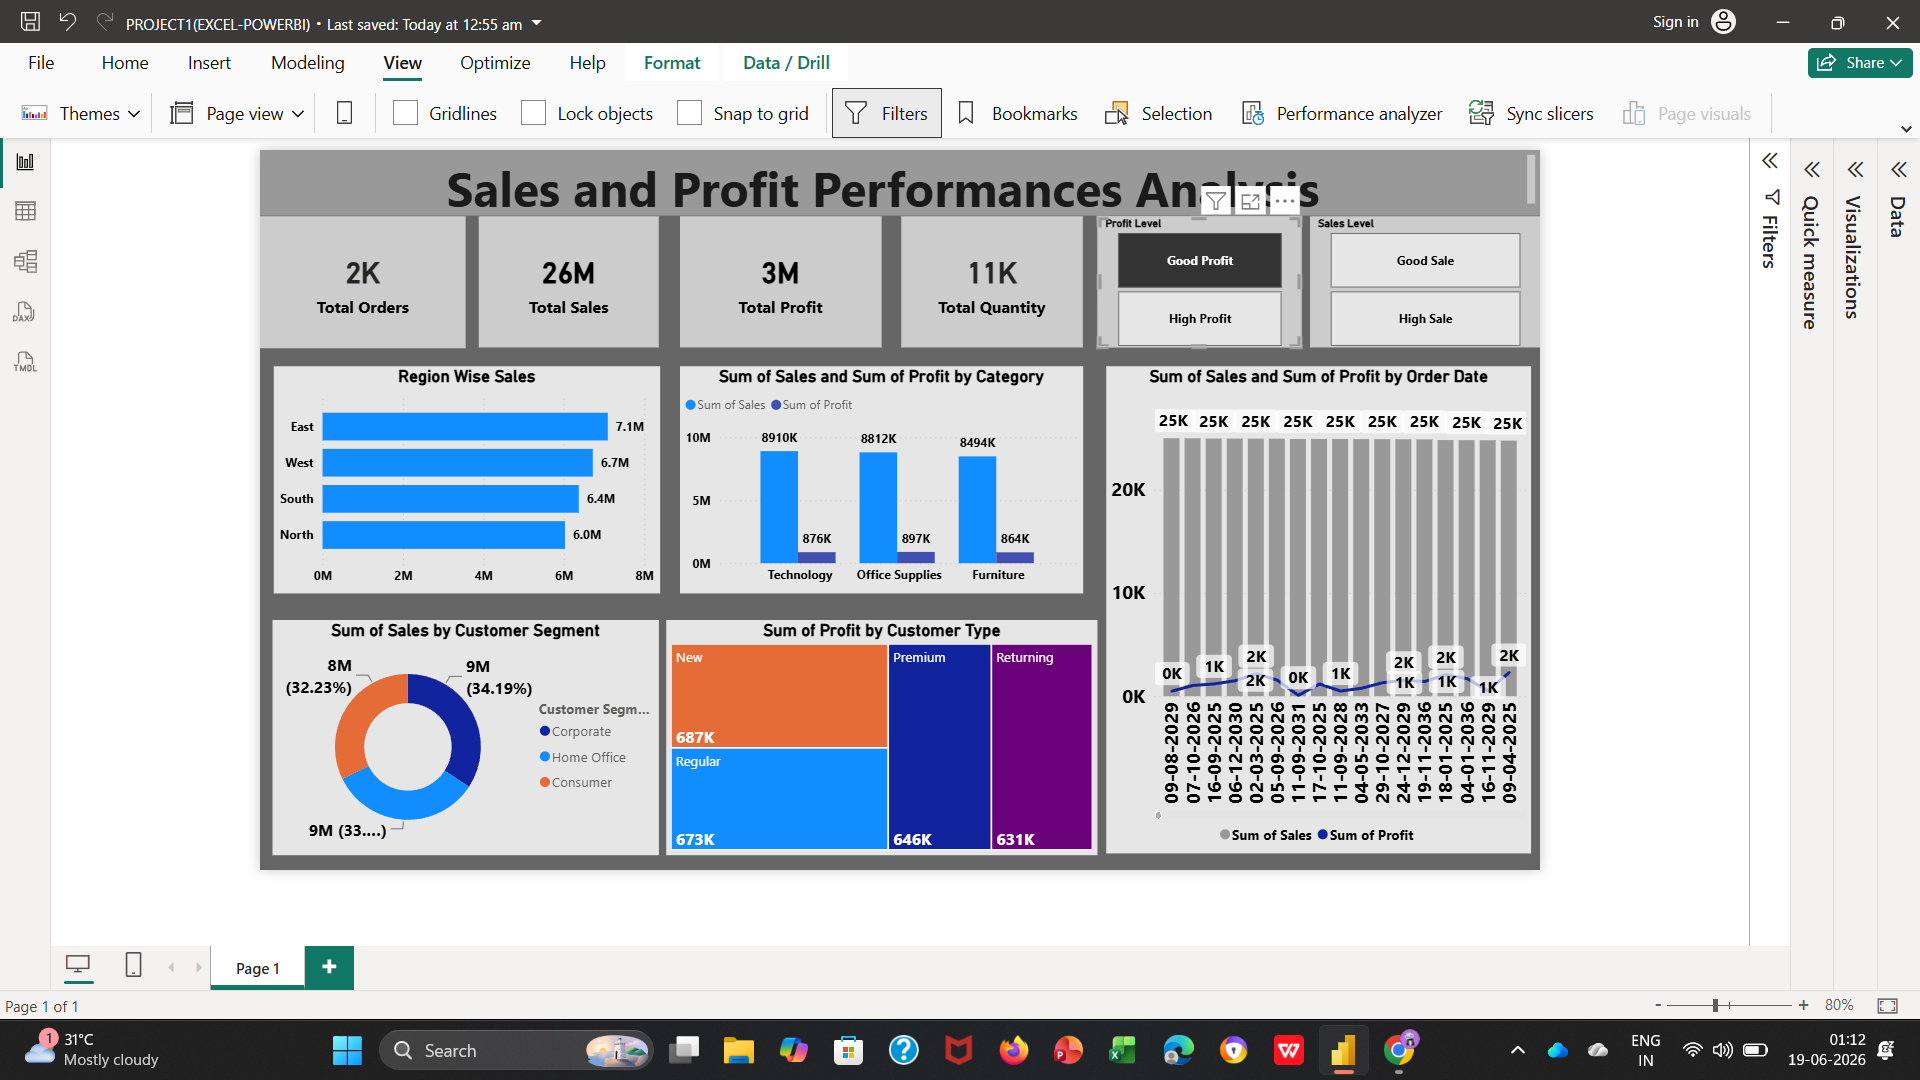

Layout of this report page (visuals, bound fields, positions):
{"tool":"powerbi","page":{"name":"Page 1","canvas":[1280,720],"ordinal":0},"visuals":[{"type":"textbox","box":[0,0,1280.3,65.9],"z":0},{"type":"card","fields":{"Values":["Superstore_Data_2_1.Total Orders"]},"box":[0,65.9,205.8,131.7],"z":1000},{"type":"card","fields":{"Values":["Superstore_Data_2_1.Total Profit"]},"box":[420,65.7,201.4,131.4],"z":2000},{"type":"card","fields":{"Values":["Superstore_Data_2_1.Total Quantity"]},"box":[641.4,65.7,181.4,131.4],"z":3000},{"type":"slicer","fields":{"Values":["Superstore_Data_2_1.Profit Level"]},"box":[837.1,65.7,204.3,131.4],"z":4000},{"type":"slicer","fields":{"Values":["Superstore_Data_2_1.Sales Level"]},"box":[1050,65.7,230,131.4],"z":5000},{"type":"clusteredBarChart","title":"Region Wise Sales","fields":{"Category":["Superstore_Data_2_1.Region"],"Y":["Sum(Superstore_Data_2_1.Sales)"]},"box":[0,215,386.2,227.5],"z":6000},{"type":"card","fields":{"Values":["Superstore_Data_2_1.Total Sales"]},"box":[218.6,65.7,180,131.4],"z":7000},{"type":"clusteredColumnChart","fields":{"Category":["Superstore_Data_2_1.Category"],"Y":["Sum(Superstore_Data_2_1.Sales)","Sum(Superstore_Data_2_1.Profit)"]},"box":[420,215.7,402.9,227.1],"z":8000},{"type":"donutChart","fields":{"Category":["Superstore_Data_2_1.Customer Segment"],"Y":["Sum(Superstore_Data_2_1.Sales)"]},"box":[0,468.6,385.7,235.7],"z":9000},{"type":"treemap","fields":{"Group":["Superstore_Data_2_1.Customer Type"],"Values":["Sum(Superstore_Data_2_1.Profit)"]},"box":[405.7,468.6,431.4,235.7],"z":10000},{"type":"lineClusteredColumnComboChart","fields":{"Category":["Superstore_Data_2_1.Order Date"],"Y2":["Sum(Superstore_Data_2_1.Profit)"],"Y":["Sum(Superstore_Data_2_1.Sales)"]},"box":[845.7,215.7,434.3,504.3],"z":11000}]}

Visuals, with their boxes on the page's 1280x720 design canvas (x1, y1, x2, y2). These are canvas units, not pixel positions in the 1920x1080 screenshot, which may show the page scaled, cropped or inside an application window:
textbox: <region>0, 0, 1280, 66</region>
card - Superstore_Data_2_1.Total Orders: <region>0, 66, 206, 198</region>
card - Superstore_Data_2_1.Total Profit: <region>420, 66, 621, 197</region>
card - Superstore_Data_2_1.Total Quantity: <region>641, 66, 823, 197</region>
slicer - Superstore_Data_2_1.Profit Level: <region>837, 66, 1041, 197</region>
slicer - Superstore_Data_2_1.Sales Level: <region>1050, 66, 1280, 197</region>
"Region Wise Sales" clusteredBarChart: <region>0, 215, 386, 442</region>
card - Superstore_Data_2_1.Total Sales: <region>219, 66, 399, 197</region>
clusteredColumnChart - Superstore_Data_2_1.Category x Sum(Superstore_Data_2_1.Sales): <region>420, 216, 823, 443</region>
donutChart - Superstore_Data_2_1.Customer Segment x Sum(Superstore_Data_2_1.Sales): <region>0, 469, 386, 704</region>
treemap - Superstore_Data_2_1.Customer Type x Sum(Superstore_Data_2_1.Profit): <region>406, 469, 837, 704</region>
lineClusteredColumnComboChart - Superstore_Data_2_1.Order Date x Sum(Superstore_Data_2_1.Profit): <region>846, 216, 1280, 720</region>
